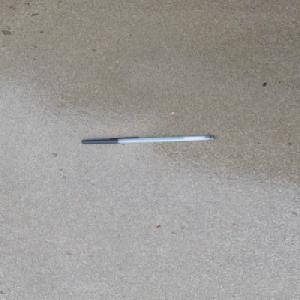Pen: (81, 135, 215, 145)
